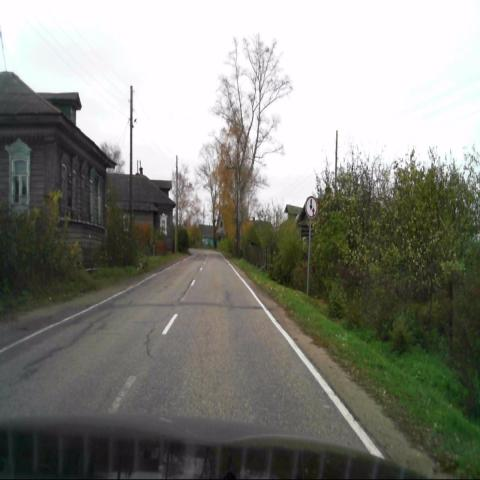2_6: (305, 196, 318, 220)
